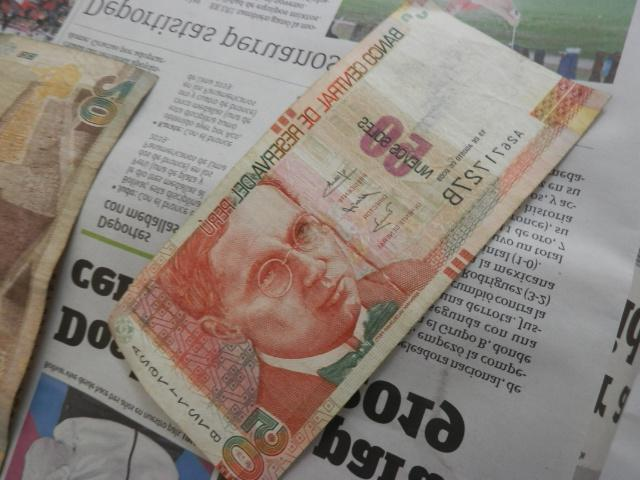B50: (105, 2, 610, 475)
